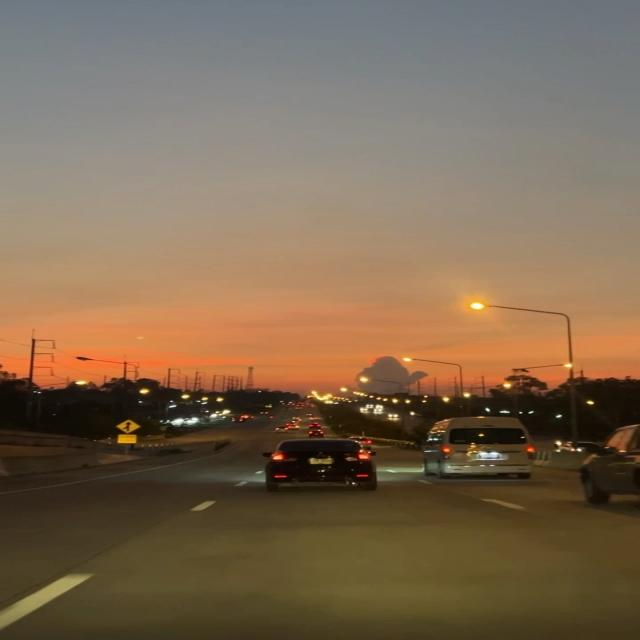Poth-hole: (21, 476, 640, 640)
